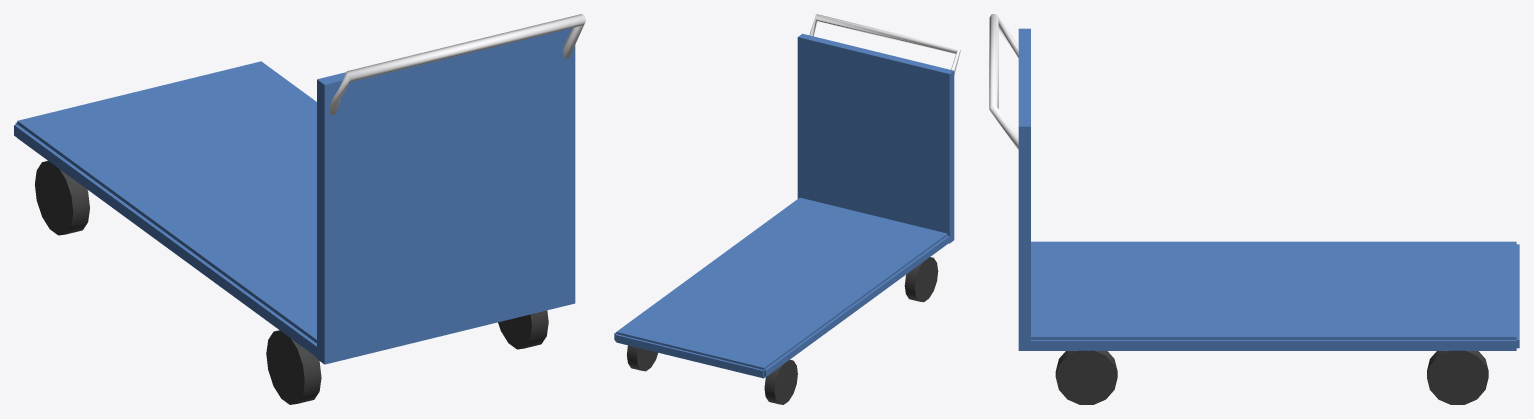
File: flatbed_cart.glb
3 renders of one model, left to right at view 1: azimuth 30°, elevation 25°; view 2: azimuth 150°, elevation 25°; view 3: azimuth 270°, elevation 25°, orthographic. The views are drawn at different scales.
Visible parts, largest first — view 1: flatbed_cart; view 2: flatbed_cart; view 3: flatbed_cart.
Boxes of the visible parts, x1,y1,x2,y2 form: flatbed_cart: (14,14,585,404); flatbed_cart: (614,14,960,404); flatbed_cart: (989,14,1519,404).
Bounding box in the file's own units: 0.75 × 1.06 × 1.71.
